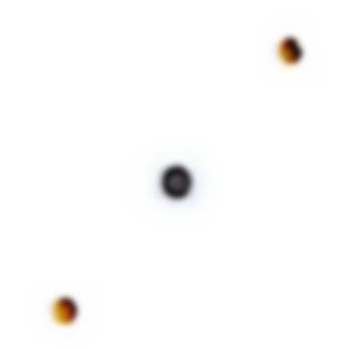cancer: (143, 138, 217, 216)
normal: (262, 25, 312, 78), (42, 285, 92, 333)
